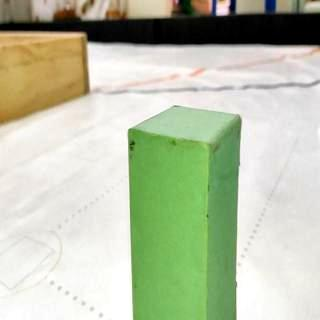greenbox: (125, 102, 242, 320)
